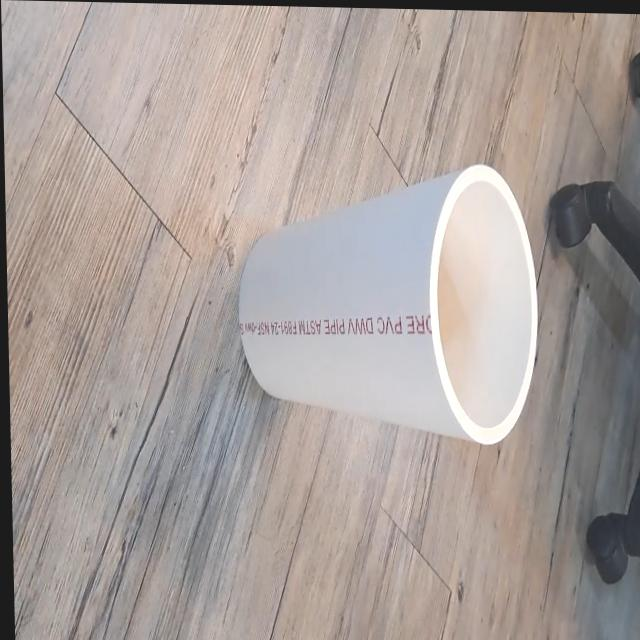CORAL: (224, 138, 544, 447)
